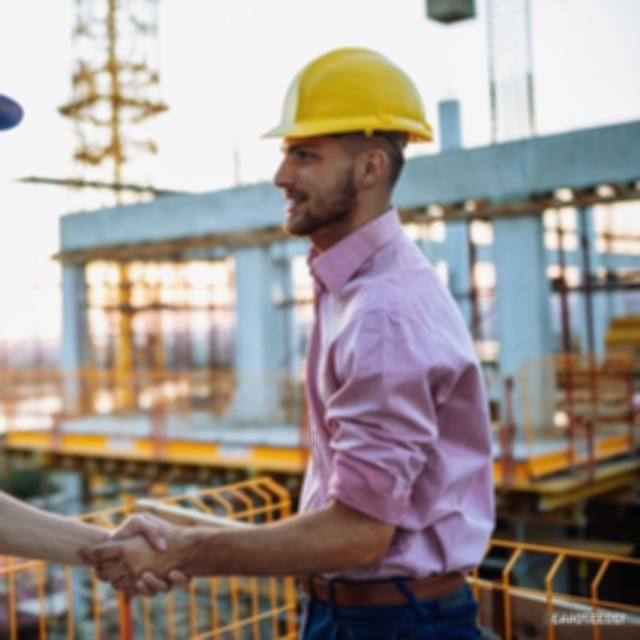Con_Casco: (262, 45, 434, 238)
Sin_Chaleco: (290, 240, 484, 579)
